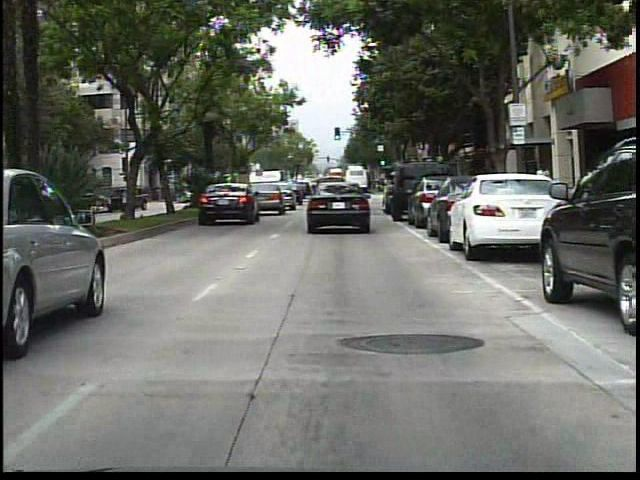person: (532, 157, 555, 219)
